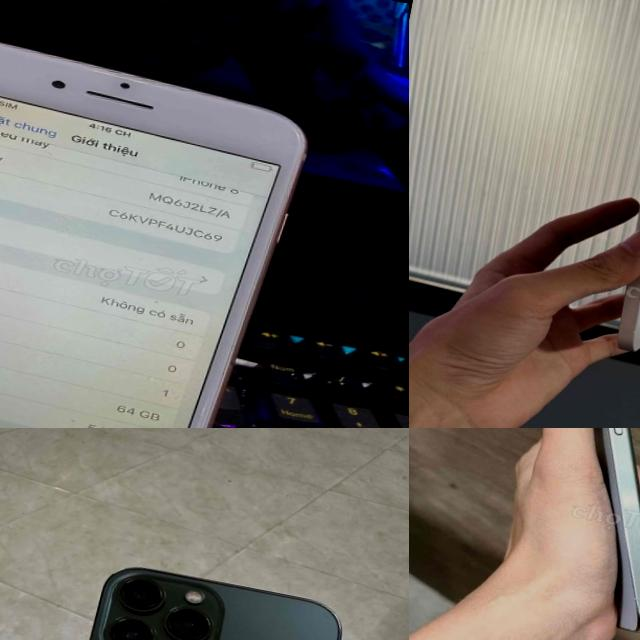gen_12_13: (1, 552, 359, 640), (591, 106, 640, 358)
gen_15: (503, 428, 640, 640)
gen_7_8: (0, 44, 306, 428)
